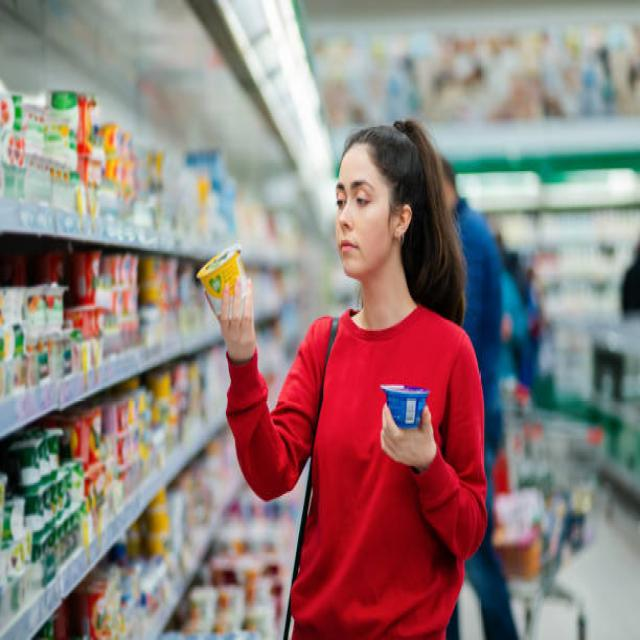article: (198, 243, 246, 312), (381, 384, 429, 427)
hands: (381, 405, 436, 472), (211, 278, 255, 361)
person: (218, 119, 487, 638)
